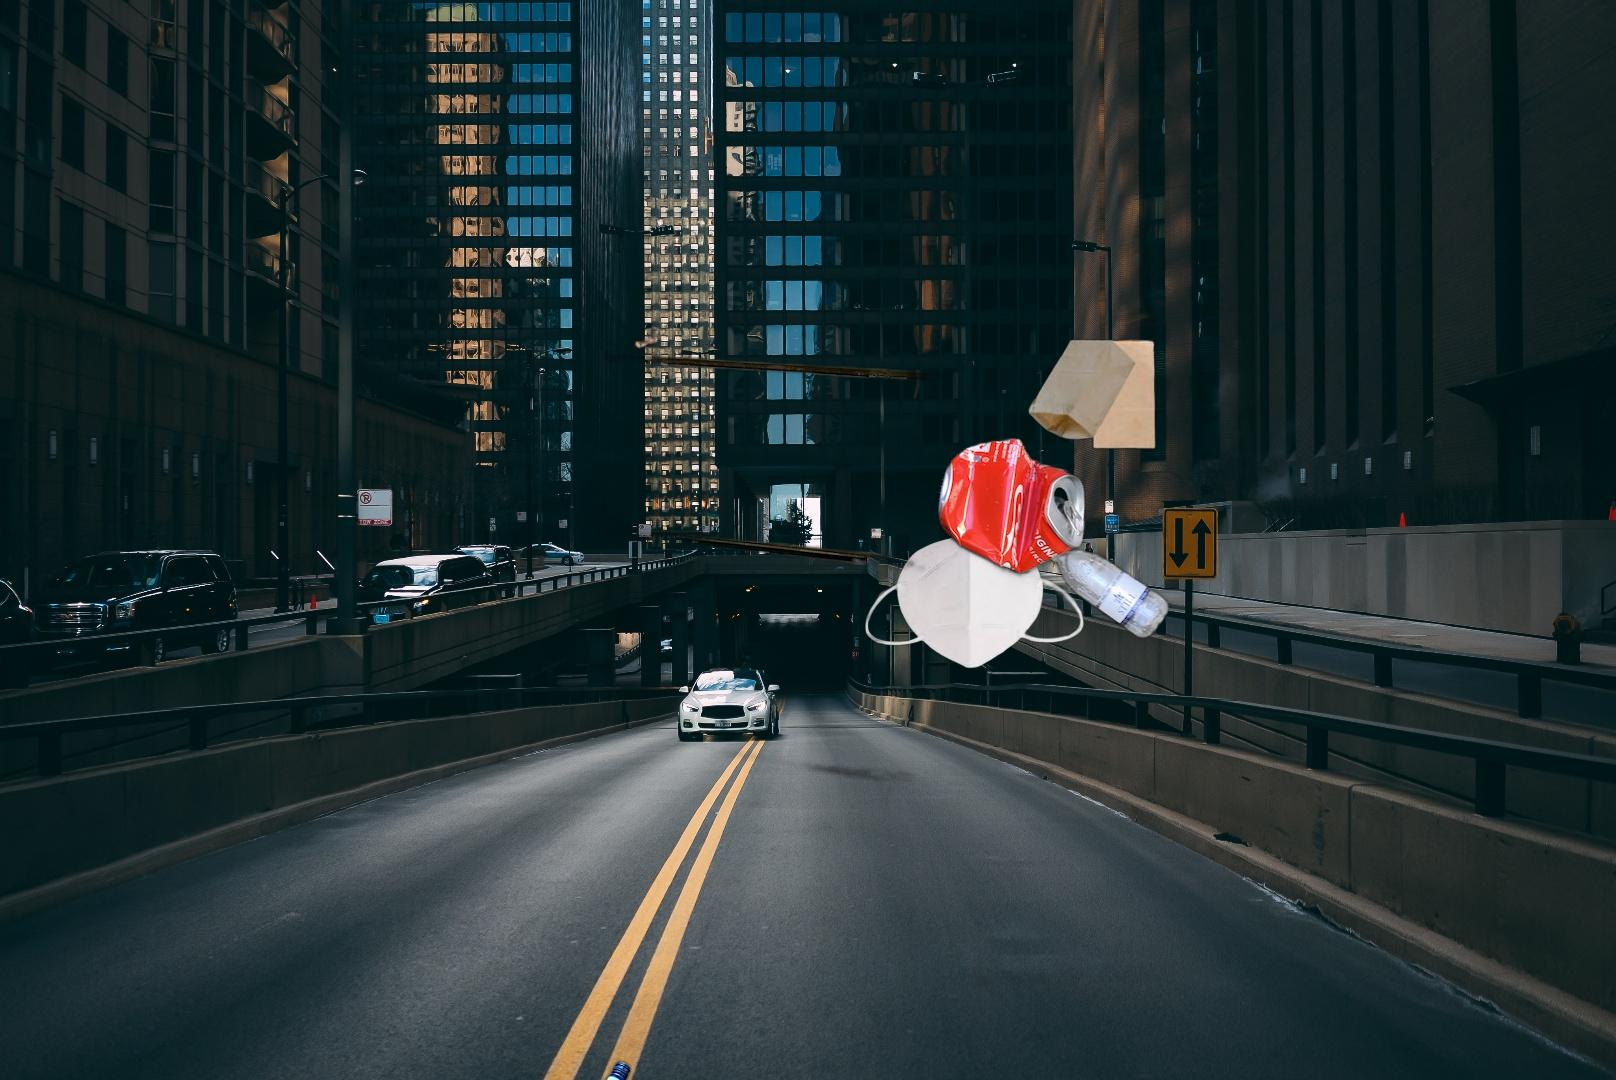glass: (525, 1056, 636, 1080)
metal-cans: (604, 206, 1116, 890)
paper-bag: (971, 210, 1199, 457)
plastic-bottles: (1038, 533, 1174, 644)
trash: (862, 530, 1086, 671)
